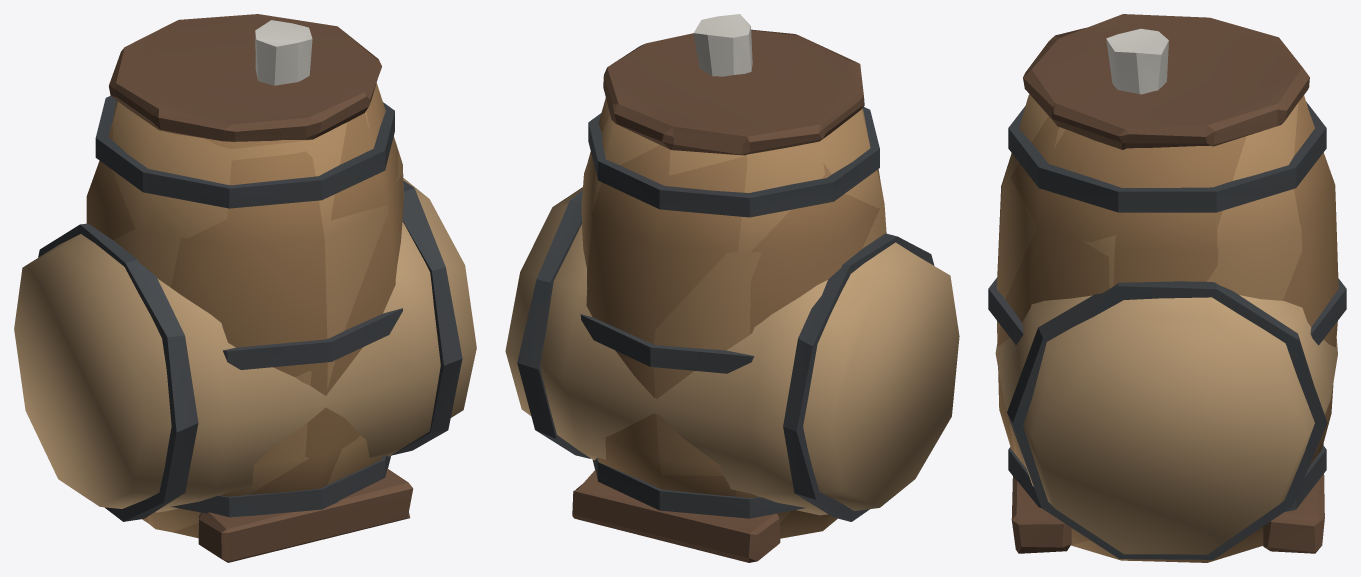
Rendered from barrel.glb.
3 views of the same model, side by side, from view 1: azimuth 30°, elevation 25°; view 2: azimuth 150°, elevation 25°; view 3: azimuth 270°, elevation 25° (orthographic). The views are drawn at different scales.
Visible parts, largest first — view 1: barrel.v2.mesh, barrel.v1.mesh, barrel.v0.mesh; view 2: barrel.v2.mesh, barrel.v1.mesh, barrel.v0.mesh; view 3: barrel.v2.mesh, barrel.v1.mesh, barrel.v0.mesh.
Boxes of the visible parts, left/top/right/bottom form: barrel.v2.mesh: left=14, top=178, right=476, bottom=562; barrel.v1.mesh: left=95, top=14, right=403, bottom=532; barrel.v0.mesh: left=86, top=83, right=403, bottom=538; barrel.v2.mesh: left=505, top=187, right=959, bottom=562; barrel.v1.mesh: left=580, top=14, right=886, bottom=523; barrel.v0.mesh: left=581, top=97, right=879, bottom=538; barrel.v2.mesh: left=995, top=281, right=1337, bottom=559; barrel.v1.mesh: left=997, top=14, right=1338, bottom=560; barrel.v0.mesh: left=988, top=96, right=1346, bottom=562.
Bounding box in the file's own units: 0.7089 × 0.9254 × 0.626.
